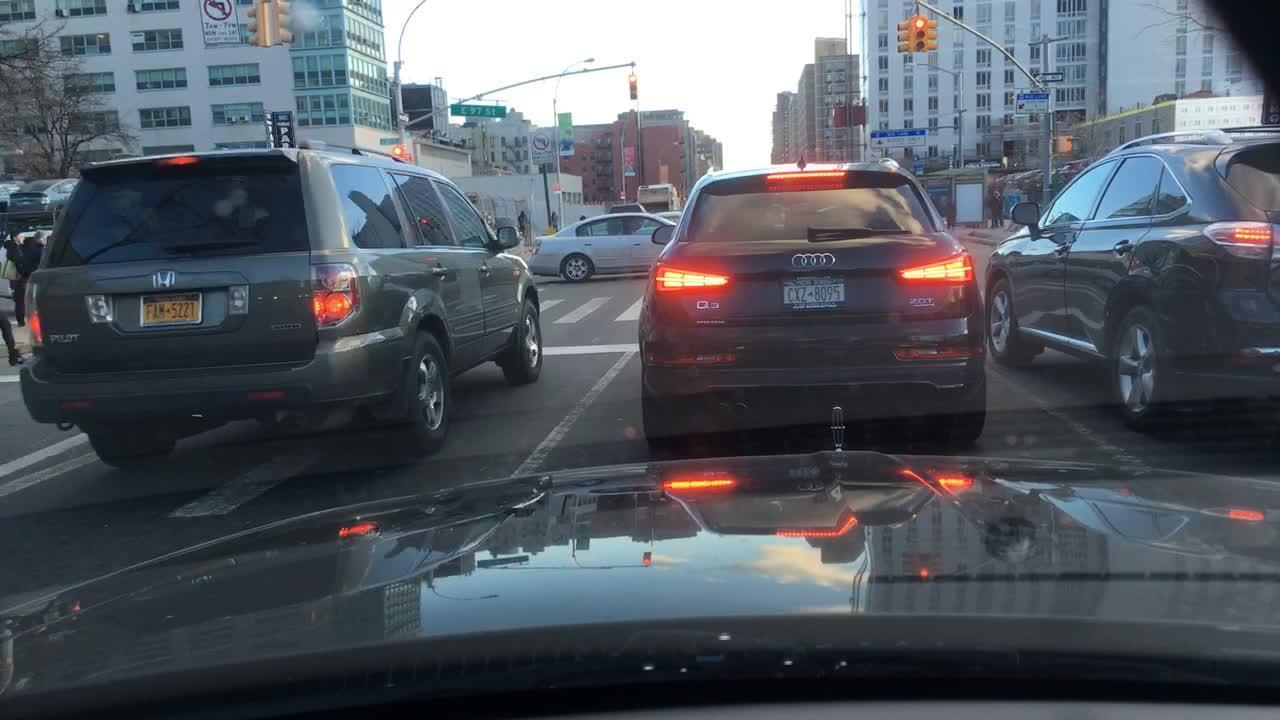Audi: (784, 250, 838, 270)
Honda: (144, 266, 180, 292)
